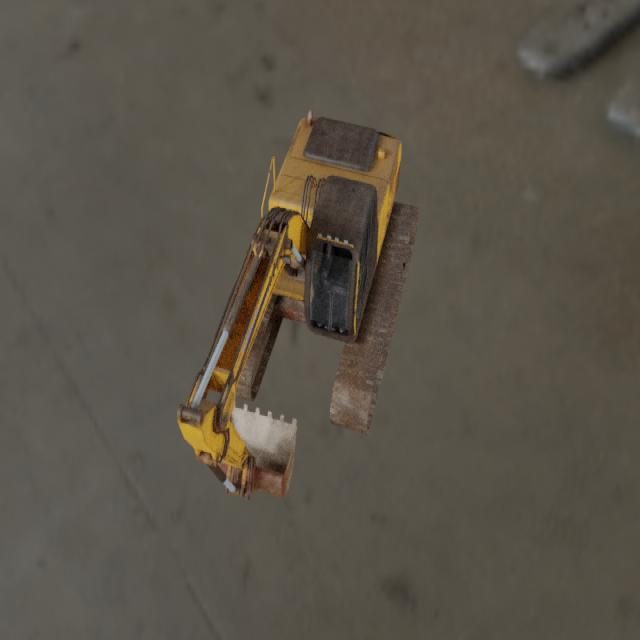excavator: (177, 109, 419, 500)
